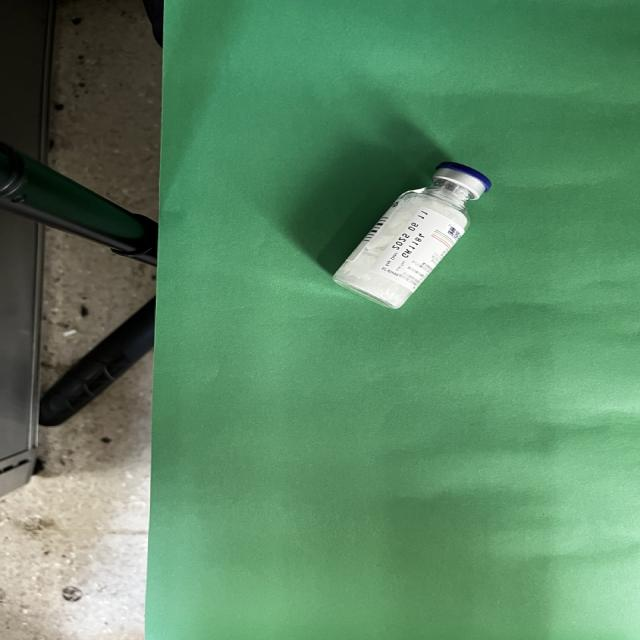Vials: (333, 163, 490, 308)
